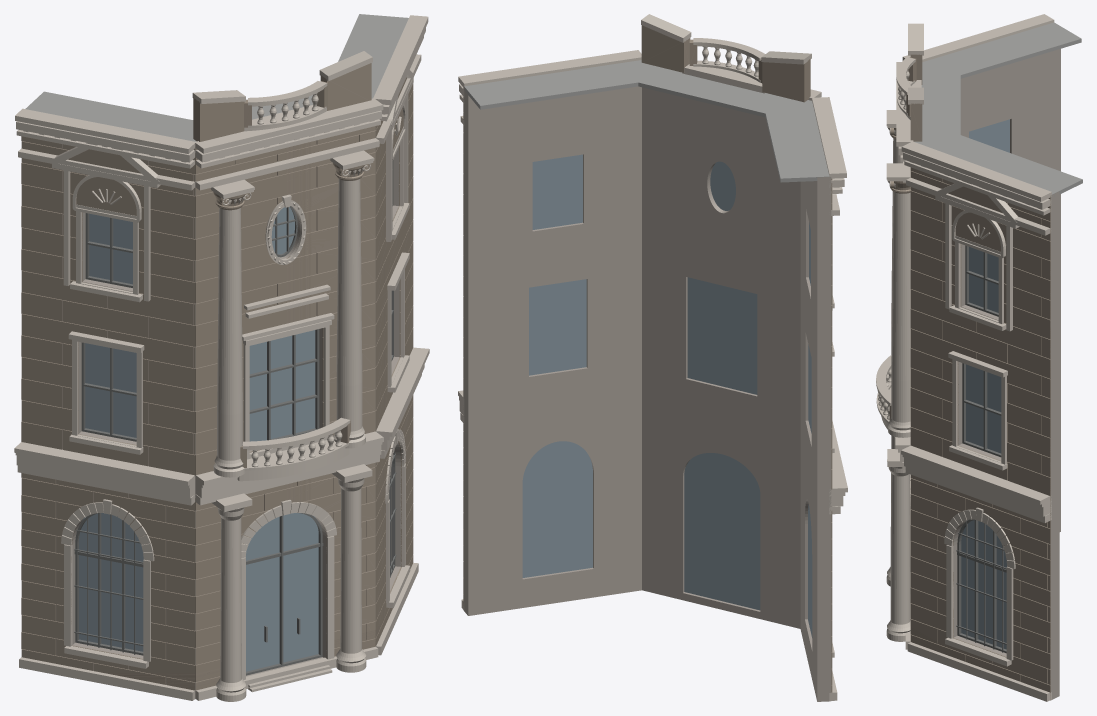
Rendered from huangpu-ningpo-commercial-bank-corner-web.glb.
3 renders of one model, left to right at view 1: azimuth 30°, elevation 25°; view 2: azimuth 150°, elevation 25°; view 3: azimuth 270°, elevation 25°, orthographic. The views are drawn at different scales.
Visible parts, largest first — view 1: 四明银行北京东路转角门楼; view 2: 四明银行北京东路转角门楼; view 3: 四明银行北京东路转角门楼.
Part boxes in pixels (bbox=[...]): 四明银行北京东路转角门楼: bbox=[14, 14, 429, 701]; 四明银行北京东路转角门楼: bbox=[458, 14, 847, 701]; 四明银行北京东路转角门楼: bbox=[876, 14, 1082, 701].
Size of the model in its own units: 13.63 by 18.93 by 6.47.
6 materials, 1 textured.
